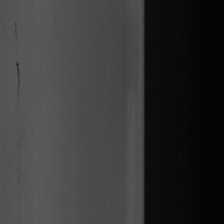inclusion: (13, 60, 21, 105), (13, 22, 18, 48)
